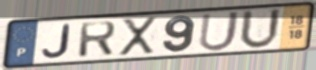9: (161, 14, 197, 55)
J: (40, 23, 73, 60)
R: (77, 20, 119, 59)
U: (197, 9, 243, 53), (237, 8, 283, 51)
X: (118, 15, 159, 58)
